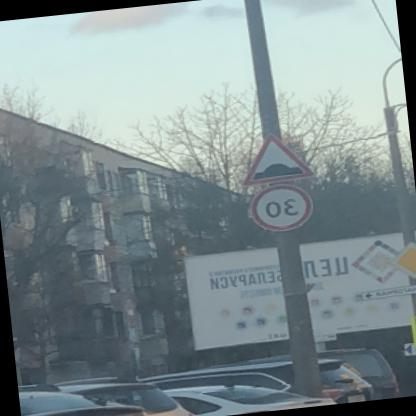speedlimit: (250, 179, 316, 231)
